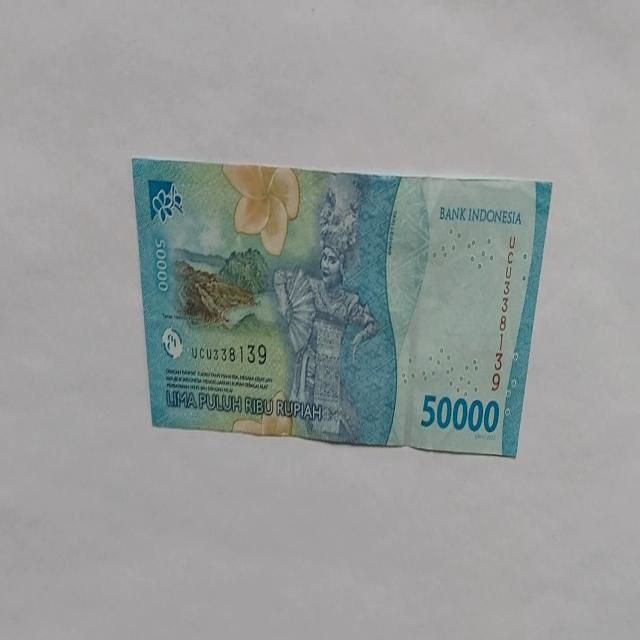lima puluh ribu rupiah: (130, 156, 552, 458)
